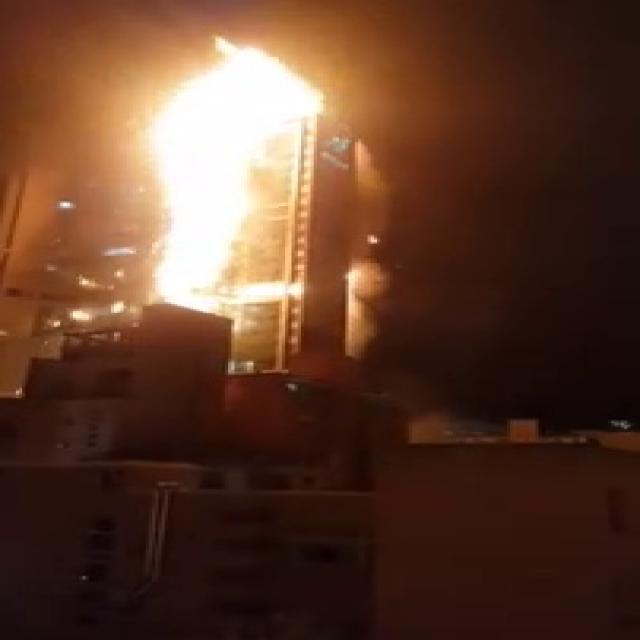Fire: (136, 41, 317, 299)
